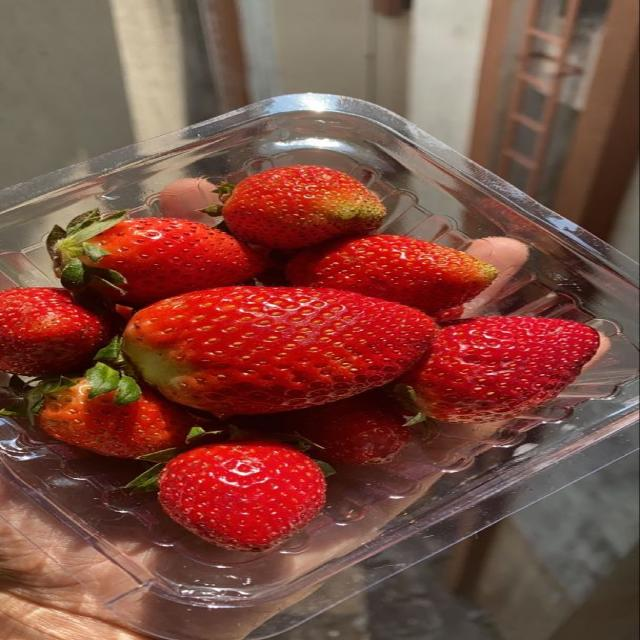strawberry: (124, 287, 435, 417), (48, 211, 266, 306), (406, 317, 599, 423), (158, 441, 326, 551), (287, 235, 496, 314), (222, 165, 385, 249), (35, 379, 196, 458), (270, 389, 411, 464), (0, 288, 114, 376), (433, 305, 464, 325)
